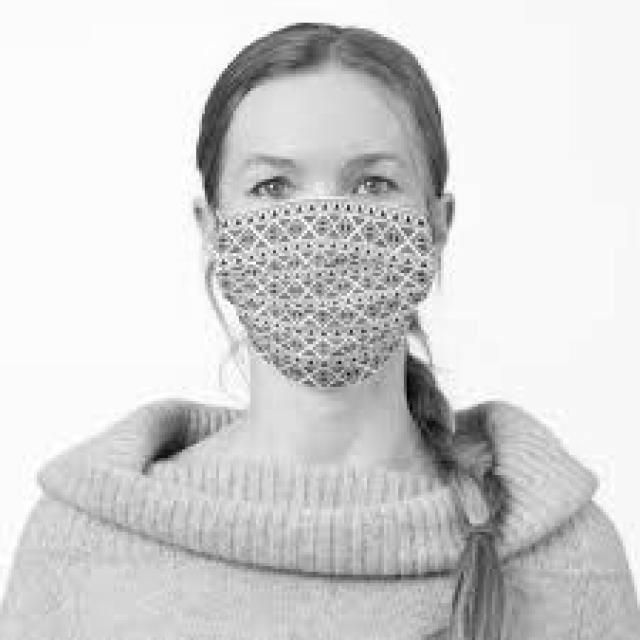fake: (203, 200, 438, 391)
real: (209, 73, 439, 395)
